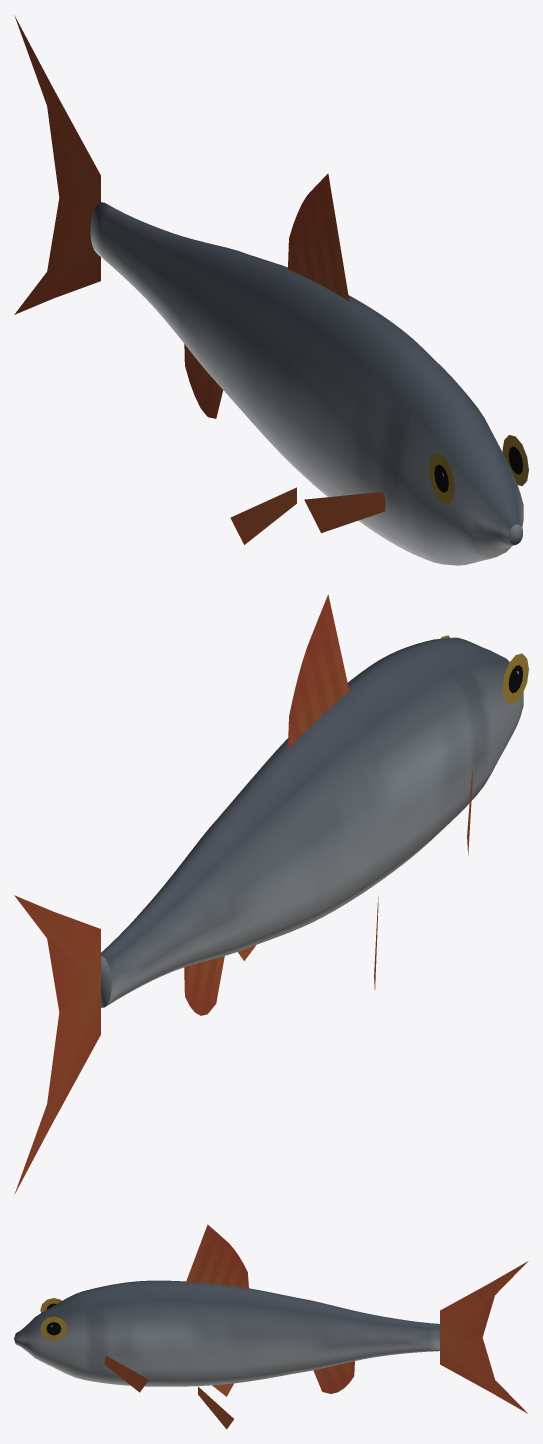
Rendered from sebarau.fbx.
The picture shows the model from 3 angles, top to bottom: view 1: azimuth 30°, elevation 25°; view 2: azimuth 150°, elevation 25°; view 3: azimuth 270°, elevation 25°; orthographic projection. The views are drawn at different scales.
Visible parts, largest first — view 1: sebarau; view 2: sebarau; view 3: sebarau.
Part boxes in pixels (x1,y1,x2,y2): sebarau: (14,15,528,565); sebarau: (14,594,528,1194); sebarau: (14,1224,528,1429).
Size of the model in its own units: 0.2266 by 0.4944 by 1.21.
